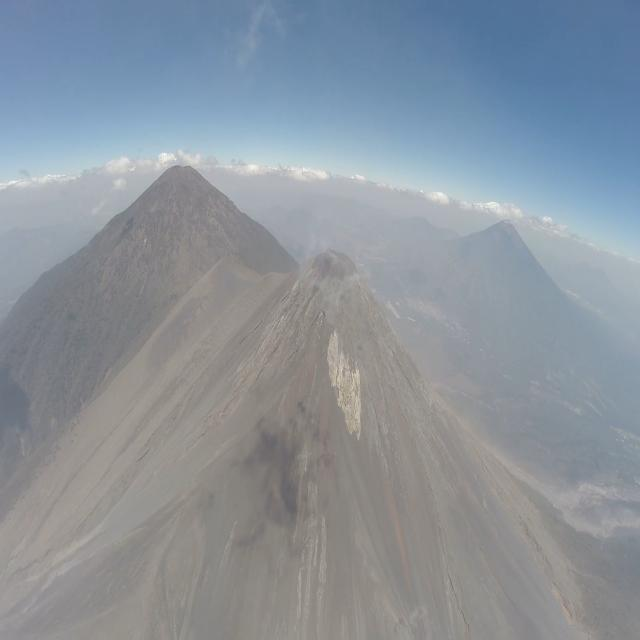Summit: (264, 240, 471, 438)
